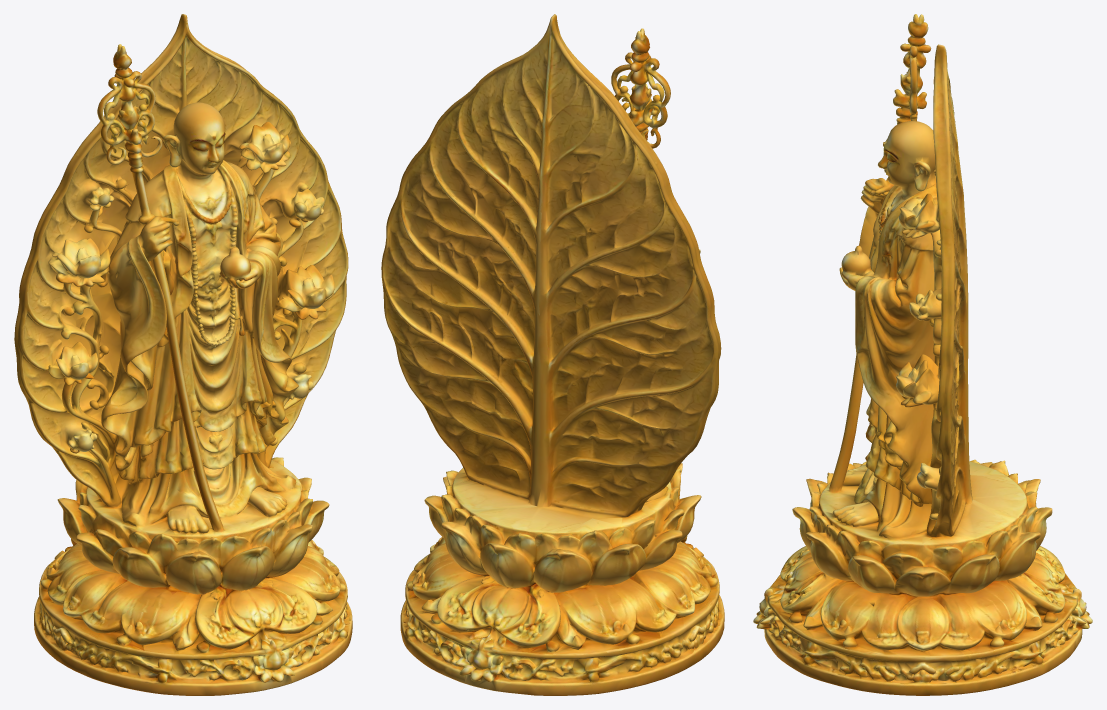
3 renders of one model, left to right at view 1: azimuth 30°, elevation 25°; view 2: azimuth 150°, elevation 25°; view 3: azimuth 270°, elevation 25°, orthographic. The views are drawn at different scales.
Visible parts, largest first — view 1: four-heavenly-kings-03; view 2: four-heavenly-kings-03; view 3: four-heavenly-kings-03.
Part boxes in pixels (x1,y1,x2,y2): four-heavenly-kings-03: [14, 14, 352, 695]; four-heavenly-kings-03: [381, 14, 724, 695]; four-heavenly-kings-03: [753, 14, 1092, 695].
Bounding box in the file's own units: 0.5695 × 1 × 0.5228.
Materials: 1 (1 with a texture image).
